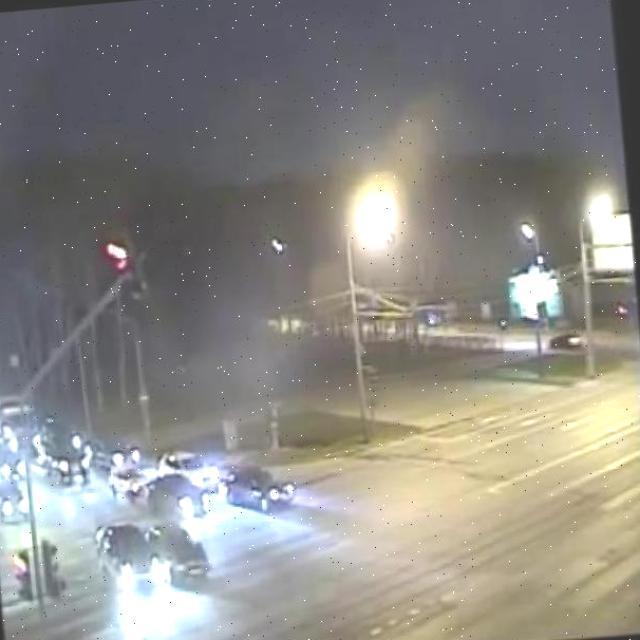accident: (88, 507, 218, 600)
